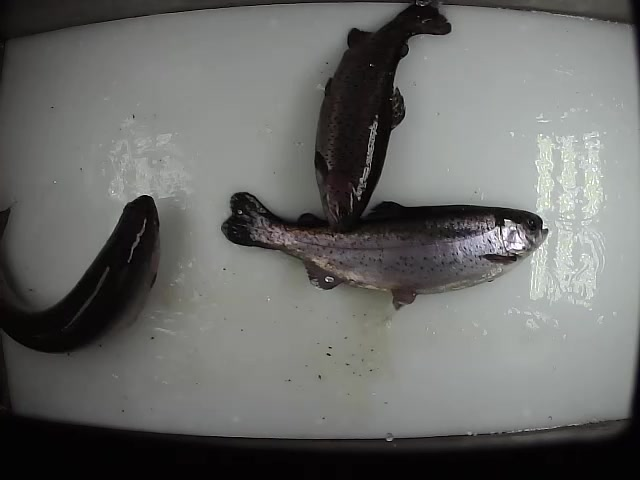fish: (218, 190, 550, 313), (313, 1, 455, 236), (1, 190, 162, 358)
